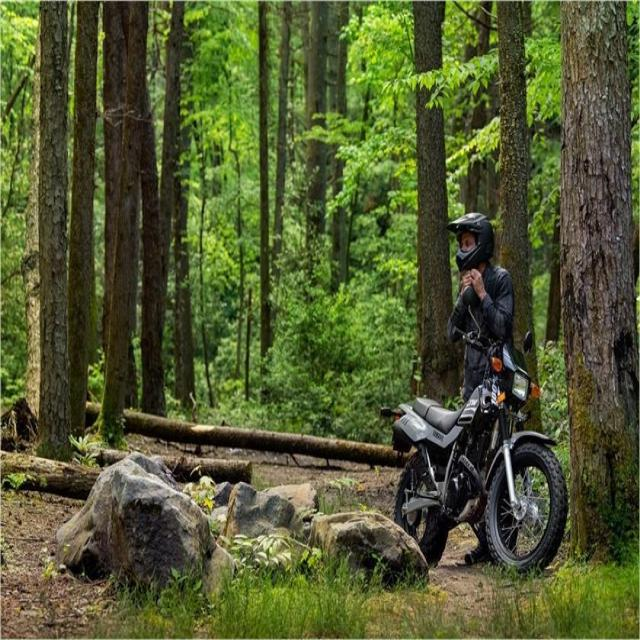Cycle: (356, 310, 580, 578)
